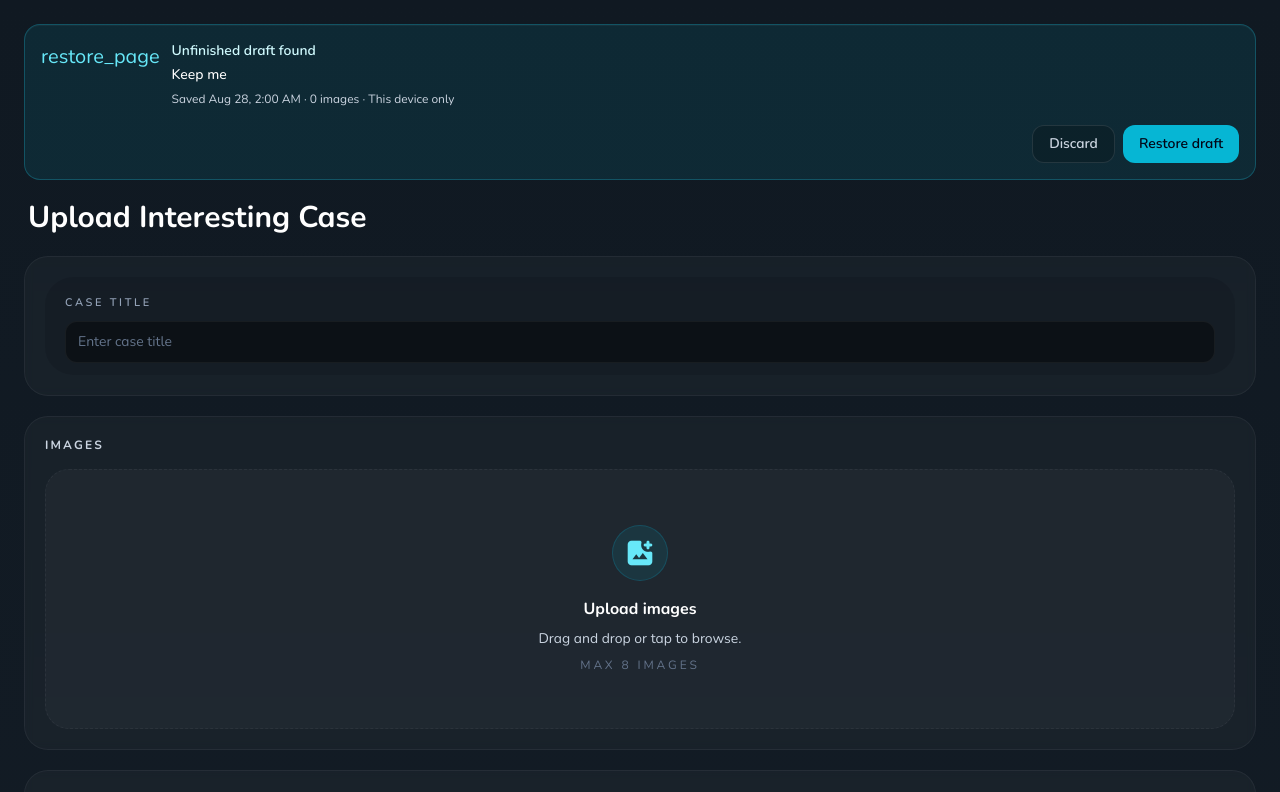
Test: UploadScreen case entry › keeps a discovered local draft when discard confirmation is cancelled
This screenshot has width=1280, height=792.
Click the button "Discard": click(1074, 144) [1032,125,1115,163]
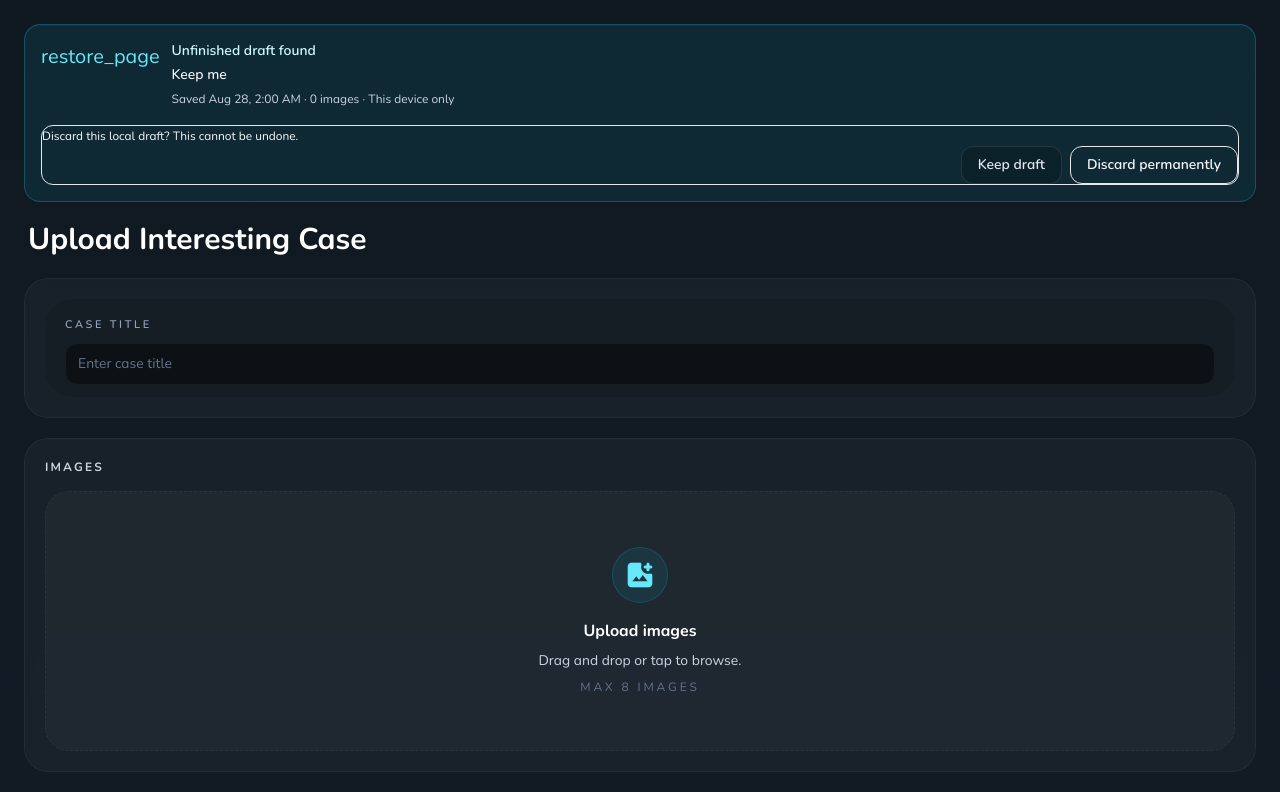
Click the button "Keep draft": click(1011, 165) [961,146,1062,184]
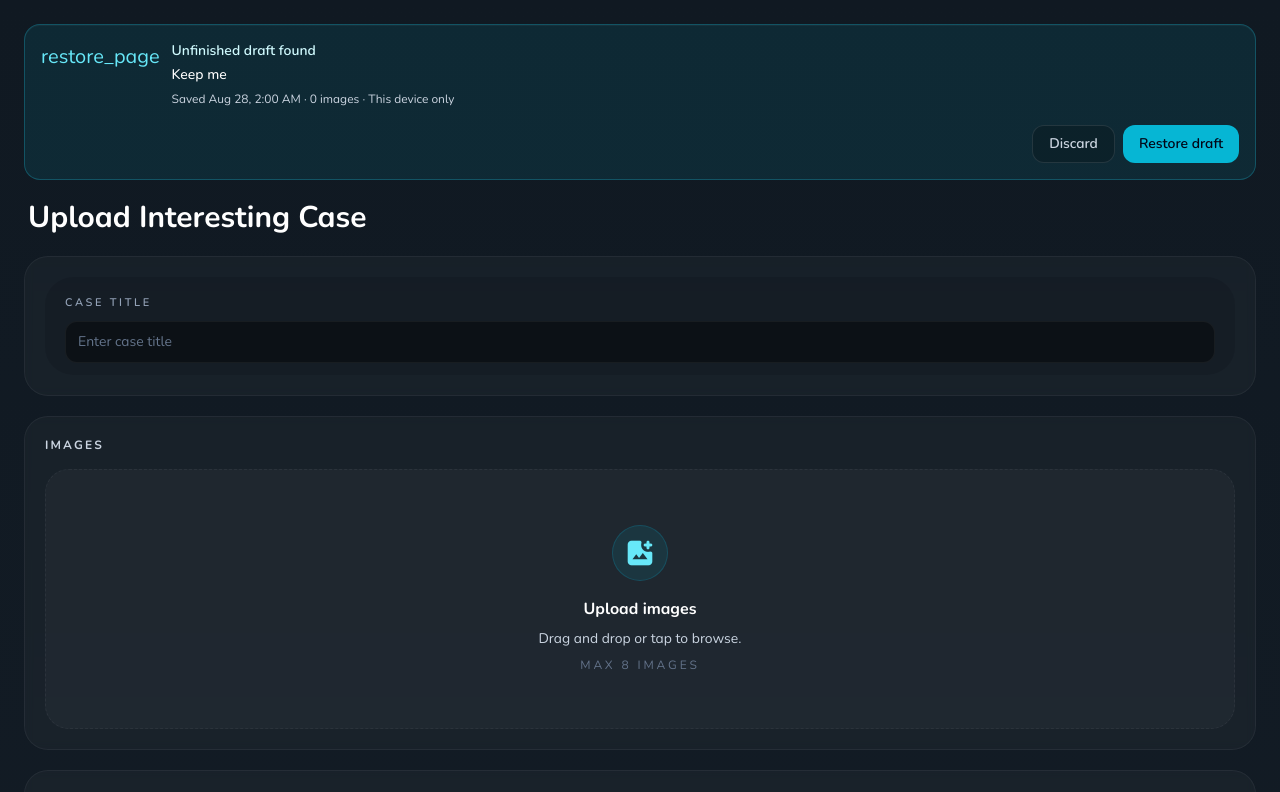
Expected: the text "Unfinished draft found" is shown, [172,41,316,60]
Result: the text "Discard this local draft? This cannot be undone." is gone
